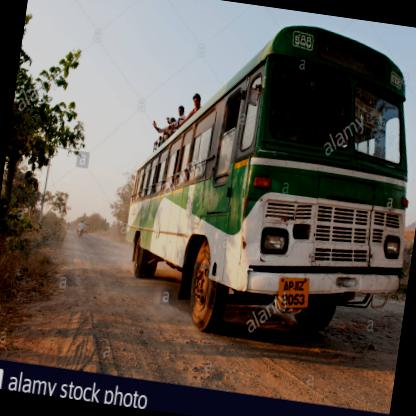bus: (103, 0, 361, 225)
